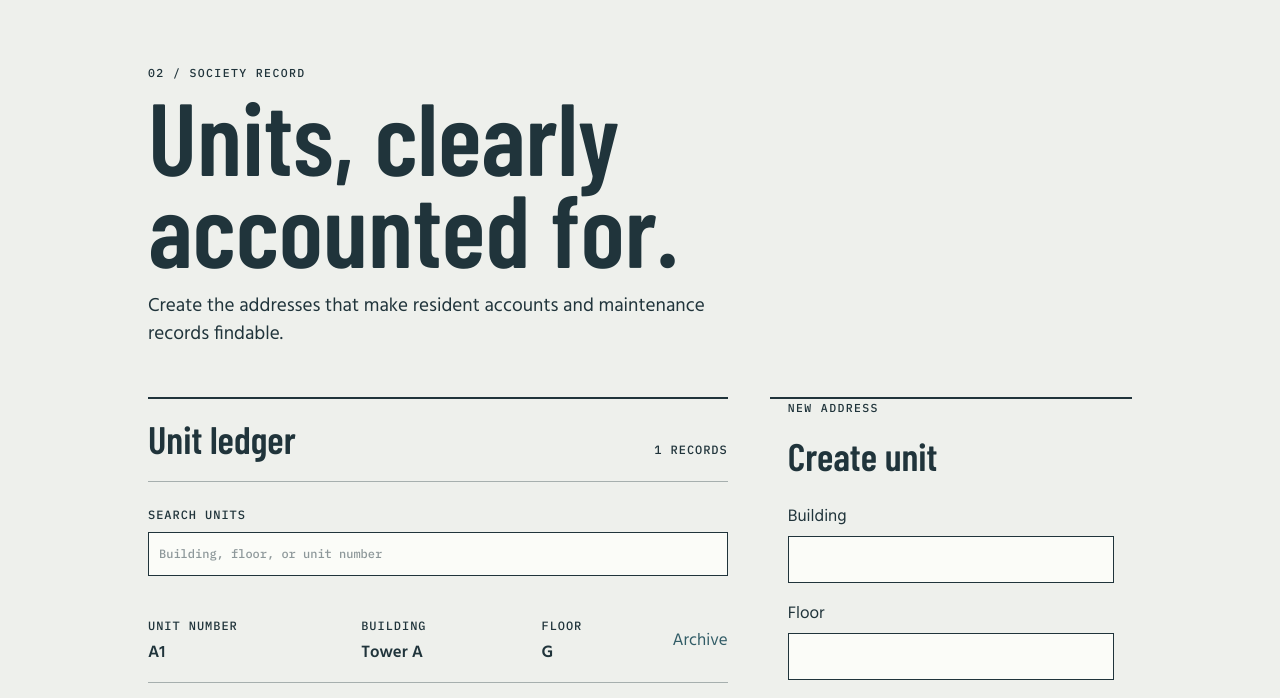
society and unit interfaces › shows recovery guidance when residents block archive
The image size is (1280, 698).
Expected: the text "A1" is shown, [148,639,165,666]
Click the button with aria-label "Archive unit A1" at (700, 641), box [672,628,728,654]
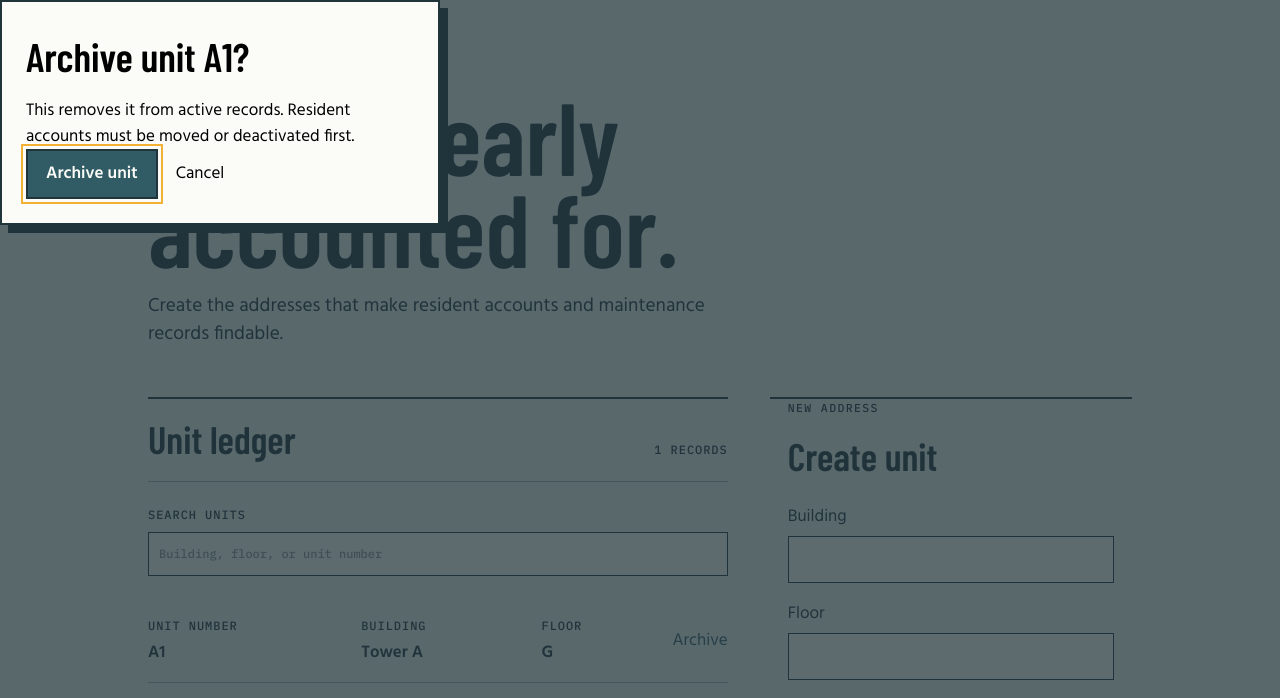
Click the button "Archive unit" at (92, 174), box [26,149,158,198]
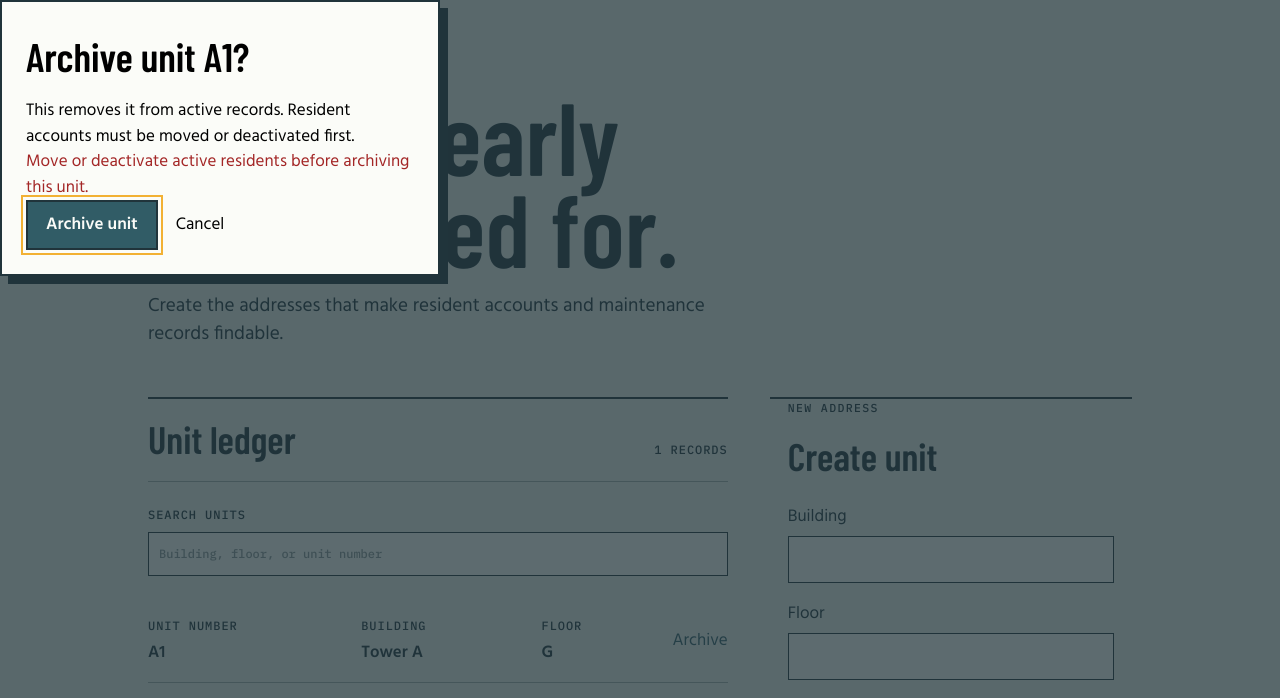
Now the text "Move or deactivate active residents before archiving this unit." is shown, box [26,149,414,200]
